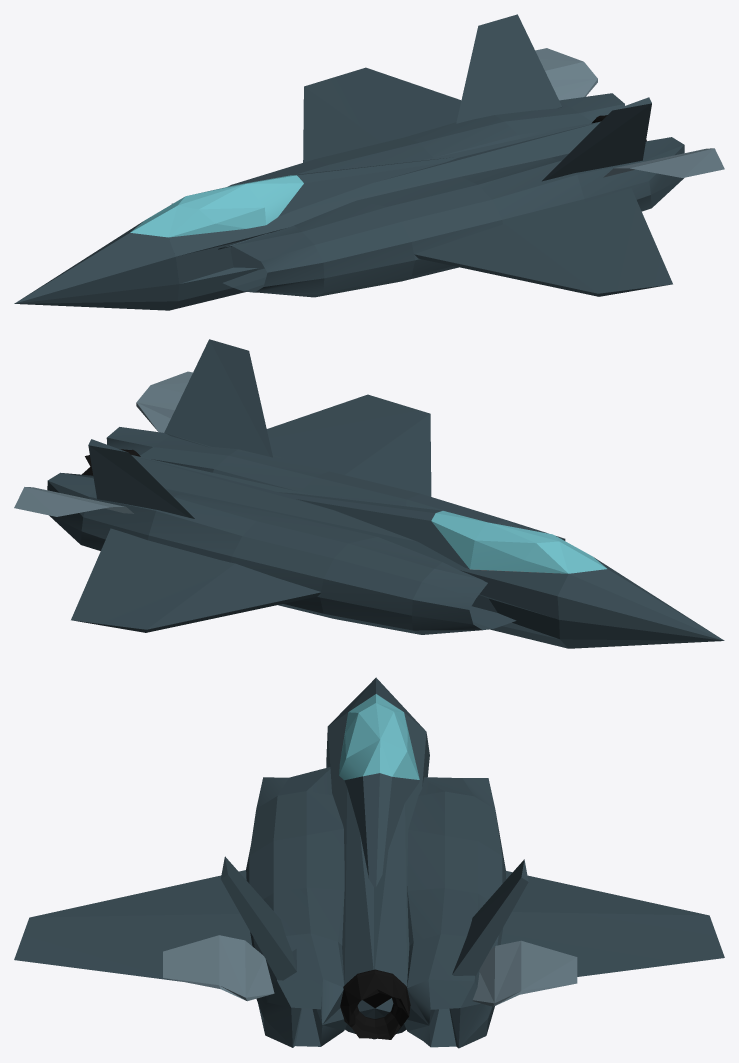
The picture shows the model from 3 angles, top to bottom: view 1: azimuth 30°, elevation 25°; view 2: azimuth 150°, elevation 25°; view 3: azimuth 270°, elevation 25°; orthographic projection. The views are drawn at different scales.
Parts seen in each view (by area): view 1: node_MeshObject1340762112-PolyPaper17; view 2: node_MeshObject1340762112-PolyPaper17; view 3: node_MeshObject1340762112-PolyPaper17.
Boxes of the visible parts, box(x1,y1,x2,y2) form: node_MeshObject1340762112-PolyPaper17: box(14, 14, 724, 310); node_MeshObject1340762112-PolyPaper17: box(14, 339, 724, 648); node_MeshObject1340762112-PolyPaper17: box(14, 677, 724, 1048).
Size of the model in its own units: 4.28 by 0.9801 by 3.5.
